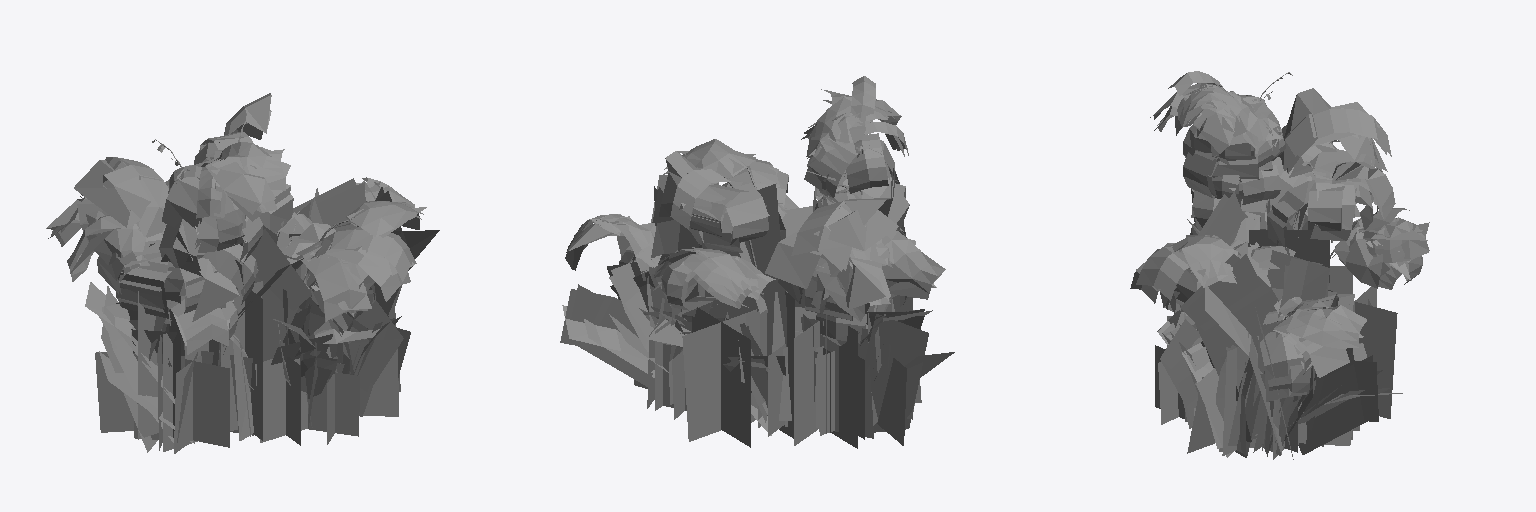
File: Swamp_Bush_02.obj
The picture shows the model from 3 angles: view 1: azimuth 30°, elevation 25°; view 2: azimuth 150°, elevation 25°; view 3: azimuth 270°, elevation 25°; orthographic projection.
Parts seen in each view (by area): view 1: Foliage_Swamp_Bush_02_LOD0, Foliage_Swamp_Bush_02_LOD2, Foliage_Swamp_Bush_02_LOD1, Foliage_Swamp_Bush_02_LOD3; view 2: Foliage_Swamp_Bush_02_LOD0, Foliage_Swamp_Bush_02_LOD3, Foliage_Swamp_Bush_02_LOD1, Foliage_Swamp_Bush_02_LOD2; view 3: Foliage_Swamp_Bush_02_LOD0, Foliage_Swamp_Bush_02_LOD1, Foliage_Swamp_Bush_02_LOD2.
Part boxes in pixels (x1,y1,x2,y2): Foliage_Swamp_Bush_02_LOD0: (48,93,439,453); Foliage_Swamp_Bush_02_LOD2: (46,122,426,449); Foliage_Swamp_Bush_02_LOD1: (51,106,421,384); Foliage_Swamp_Bush_02_LOD3: (101,157,310,452); Foliage_Swamp_Bush_02_LOD0: (560,76,954,447); Foliage_Swamp_Bush_02_LOD3: (698,184,928,448); Foliage_Swamp_Bush_02_LOD1: (565,91,944,345); Foliage_Swamp_Bush_02_LOD2: (567,103,936,411); Foliage_Swamp_Bush_02_LOD0: (1136,71,1428,459); Foliage_Swamp_Bush_02_LOD1: (1130,72,1429,401); Foliage_Swamp_Bush_02_LOD2: (1136,83,1427,459).
Bounding box in the file's own units: 517 × 428 × 365.